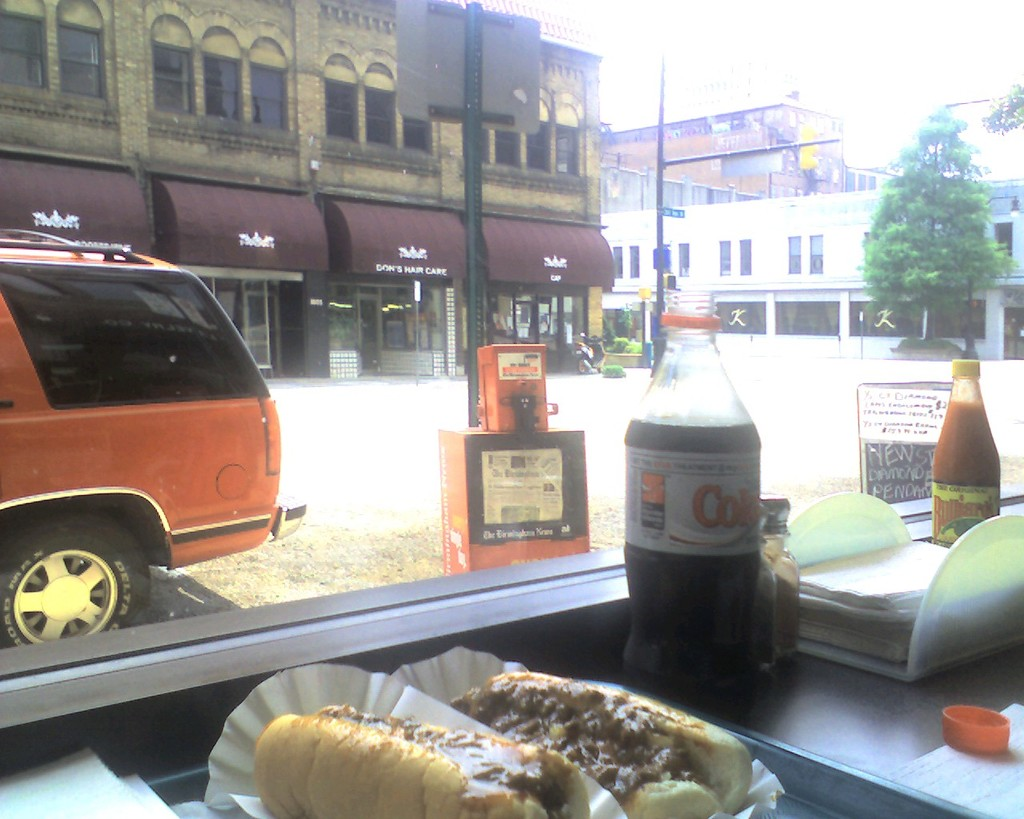cars: (0, 229, 305, 648)
